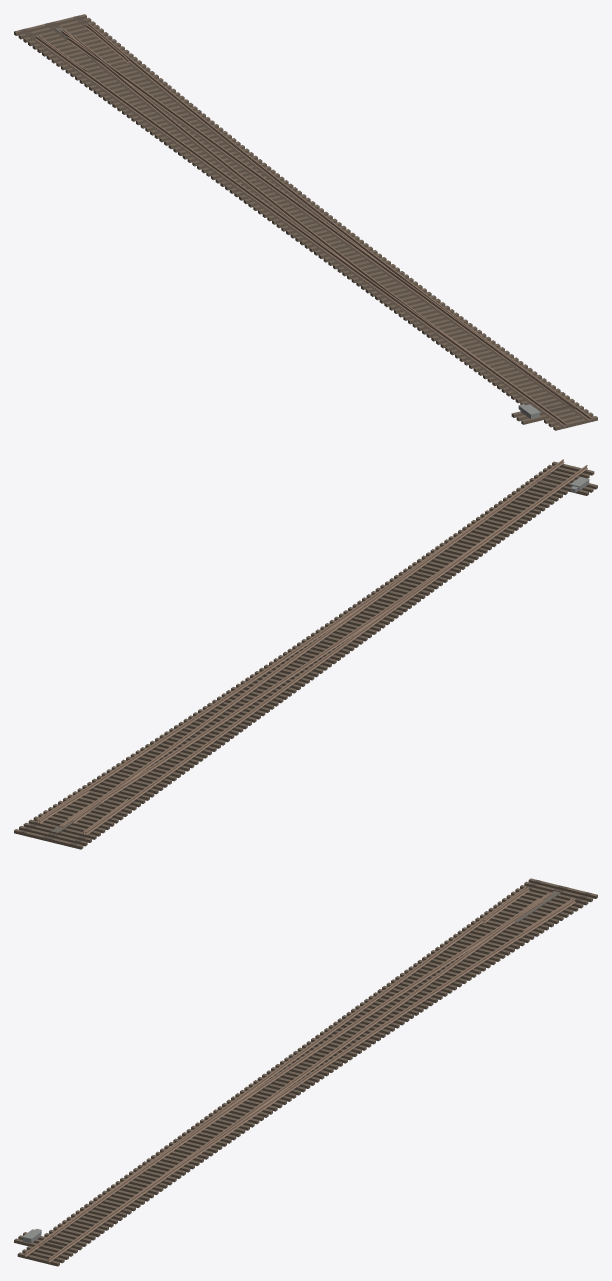
File: turnout_20_r.glb
3 renders of one model, top to bottom at view 1: azimuth 30°, elevation 25°; view 2: azimuth 150°, elevation 25°; view 3: azimuth 330°, elevation 25°, orthographic. The views are drawn at different scales.
Visible parts, largest first — view 1: Timbers, Closures, StockStraight, Plates, StockCurved, BladeStraight; view 2: Timbers, Closures, StockStraight, StockCurved, Plates, BladeStraight; view 3: Timbers, Closures, StockCurved, StockStraight, Plates, BladeCurved.
Part boxes in pixels (x1=…): Timbers: x1=14, y1=14, x2=597, y2=430; Closures: x1=67, y1=36, x2=426, y2=303; StockStraight: x1=35, y1=36, x2=566, y2=426; Plates: x1=20, y1=15, x2=591, y2=426; StockCurved: x1=88, y1=23, x2=591, y2=420; BladeStraight: x1=425, y1=297, x2=575, y2=409; Timbers: x1=14, y1=461, x2=597, y2=849; Closures: x1=67, y1=573, x2=429, y2=823; StockStraight: x1=85, y1=465, x2=587, y2=835; StockCurved: x1=36, y1=459, x2=564, y2=822; Plates: x1=20, y1=463, x2=587, y2=845; BladeStraight: x1=408, y1=470, x2=550, y2=575; Timbers: x1=14, y1=878, x2=597, y2=1266; Closures: x1=182, y1=898, x2=544, y2=1146; StockCurved: x1=47, y1=899, x2=575, y2=1262; StockStraight: x1=24, y1=886, x2=526, y2=1256; Plates: x1=24, y1=879, x2=591, y2=1261; BladeCurved: x1=39, y1=1140, x2=183, y2=1246.
Bounding box in the file's own units: 5.42 × 0.4678 × 57.29.
